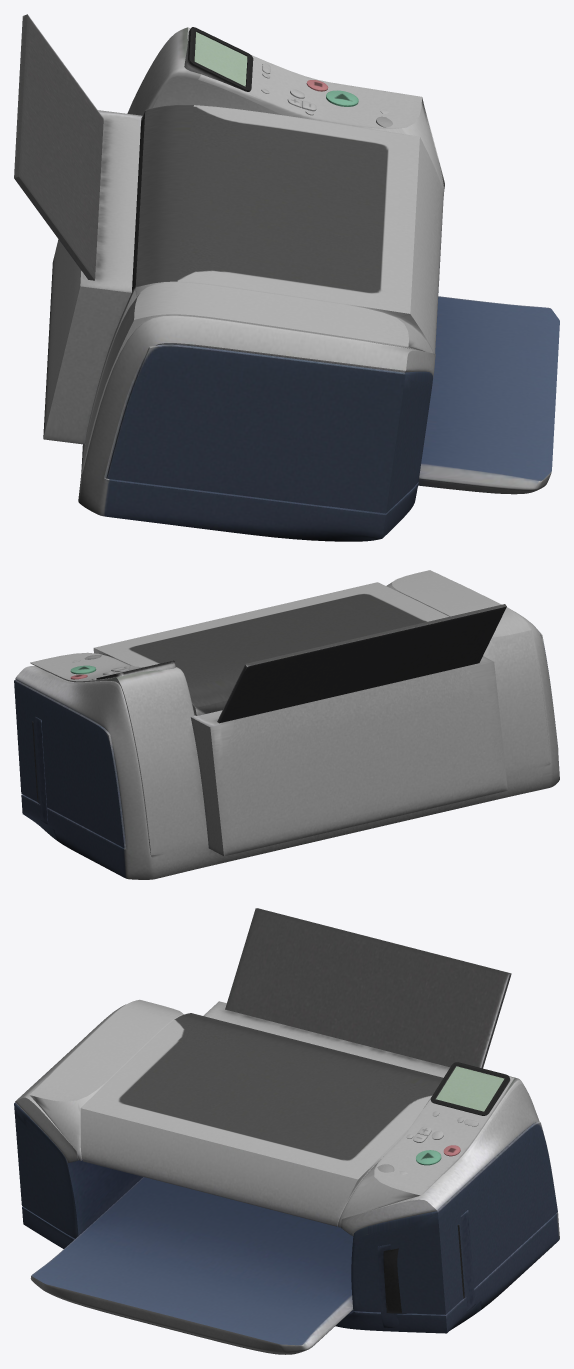
The model's file is printer.glb.
3 renders of one model, top to bottom at view 1: azimuth 30°, elevation 25°; view 2: azimuth 150°, elevation 25°; view 3: azimuth 270°, elevation 25°, orthographic. The views are drawn at different scales.
Visible parts, largest first — view 1: 10107_Computer Printer_v3_L3; view 2: 10107_Computer Printer_v3_L3; view 3: 10107_Computer Printer_v3_L3.
Part boxes in pixels (x1,y1,x2,y2): 10107_Computer Printer_v3_L3: (14, 14, 559, 541); 10107_Computer Printer_v3_L3: (14, 570, 559, 879); 10107_Computer Printer_v3_L3: (14, 908, 559, 1354).
Bounding box in the file's own units: 3.32 × 1.79 × 3.59.
1 material, 1 textured.
